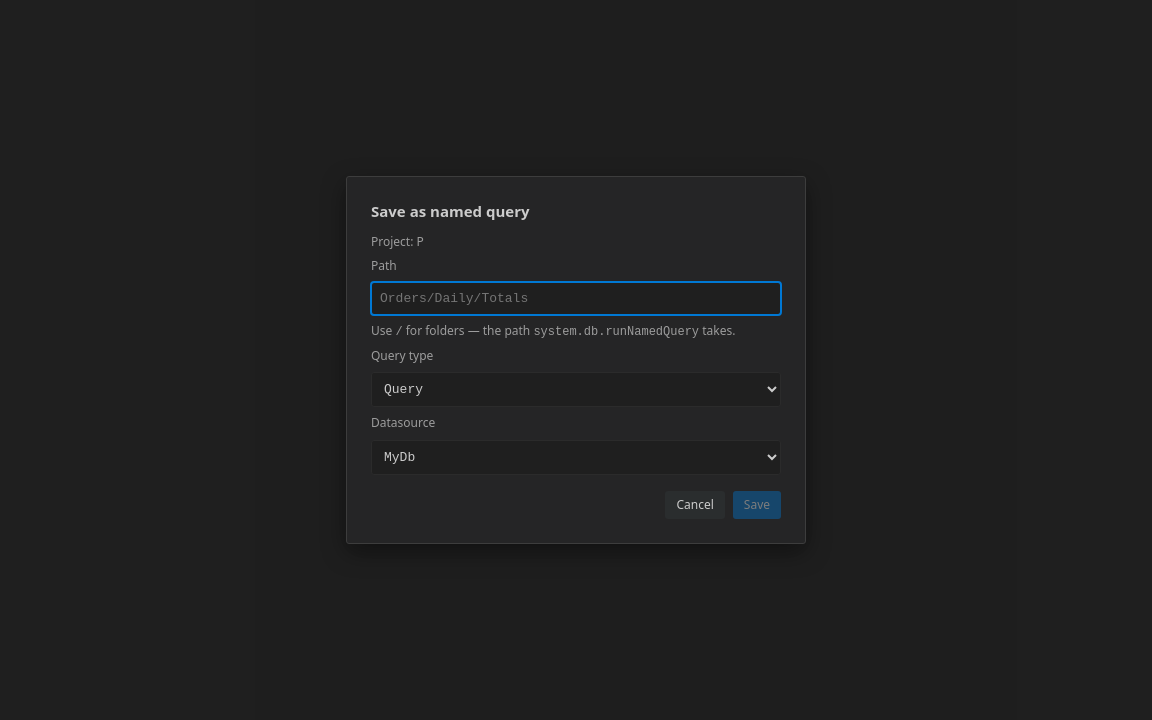
it: SaveAsNamedQueryDialog — folder/query overlap refusal › refuses a path that is already a folder
Step 1. Type "Orders" into the field labelled "Path" → (576, 298), box top-left (371, 282), bottom-right (781, 315)
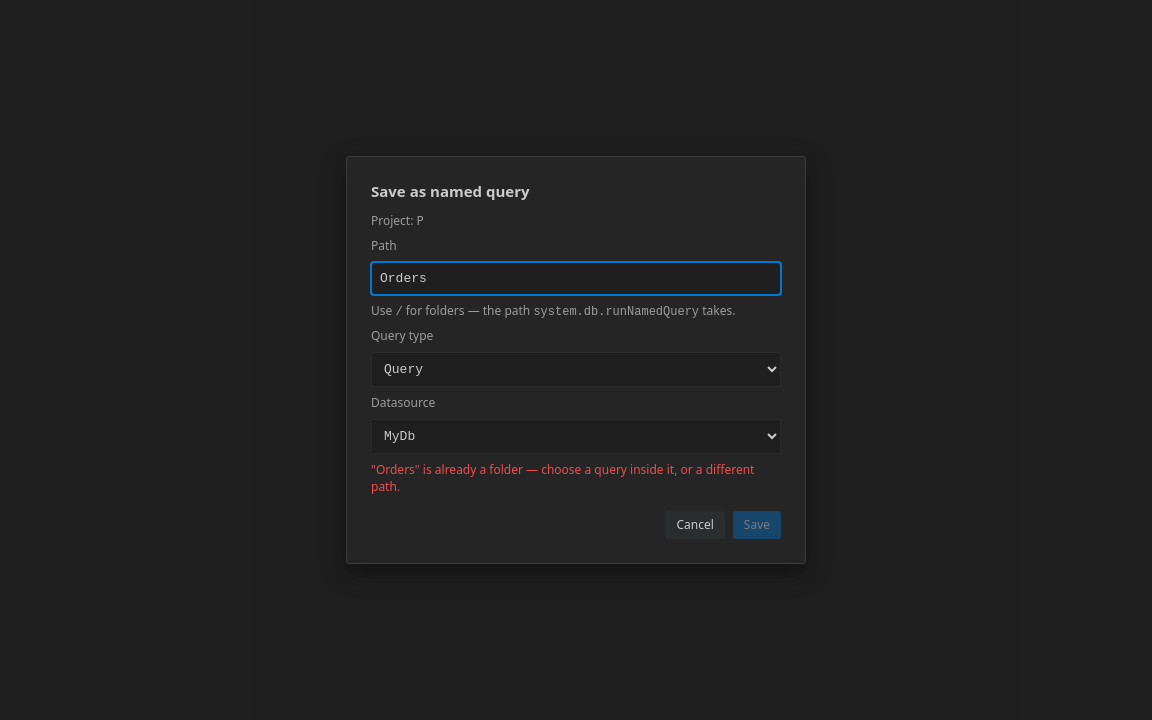
Check: the message shows "already a folder", box top-left (371, 461), bottom-right (754, 495)
